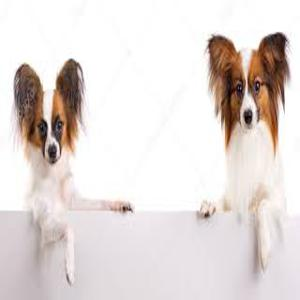yell: (197, 33, 292, 275)
